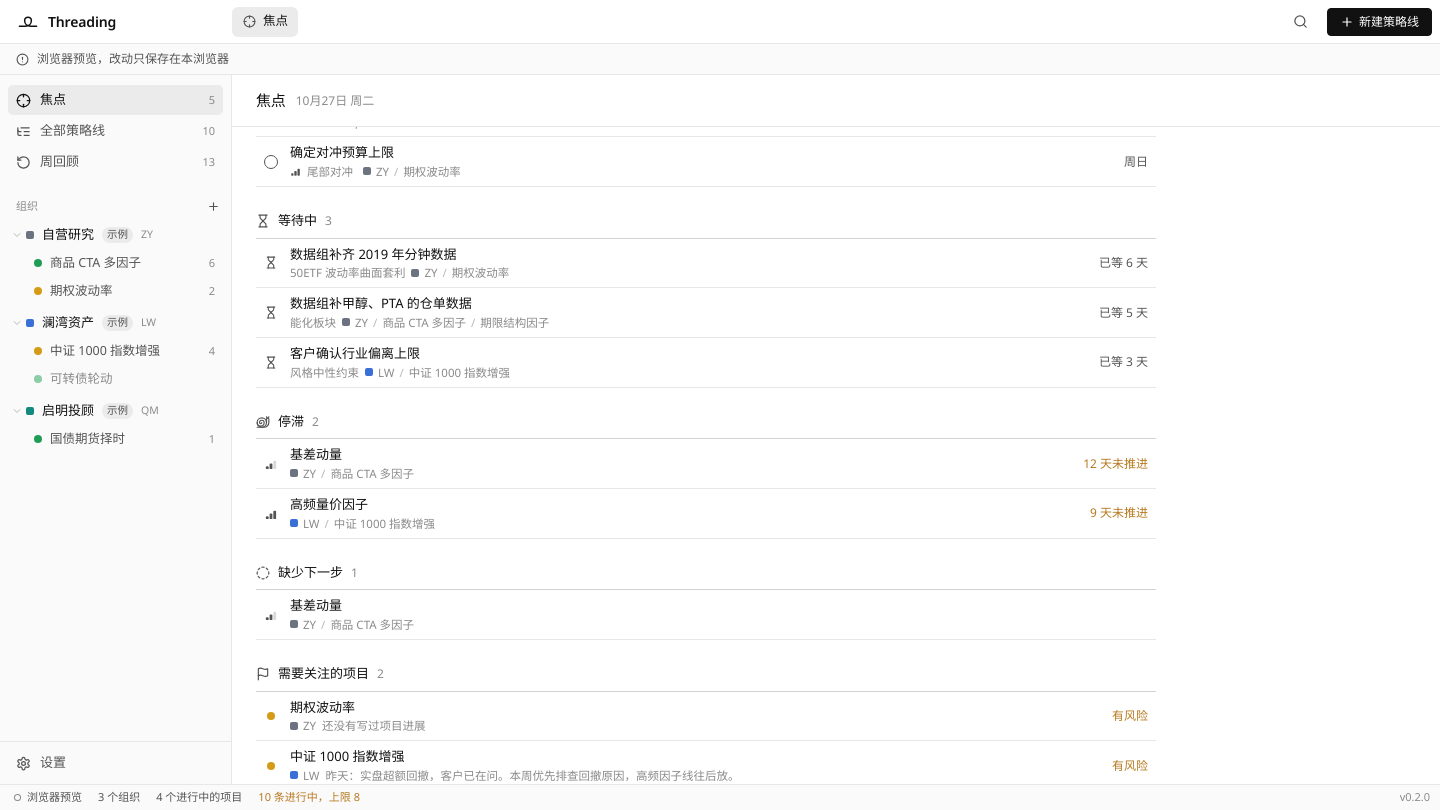
Threading › cancels an inline rename with Escape
The image size is (1440, 810).
(page scrolled)
Check: the heading "焦点" is shown, box [256,89,286,112]
Step 1. Click the text "基差动量" in the row of "12" → click(316, 455), box [290,445,342,465]
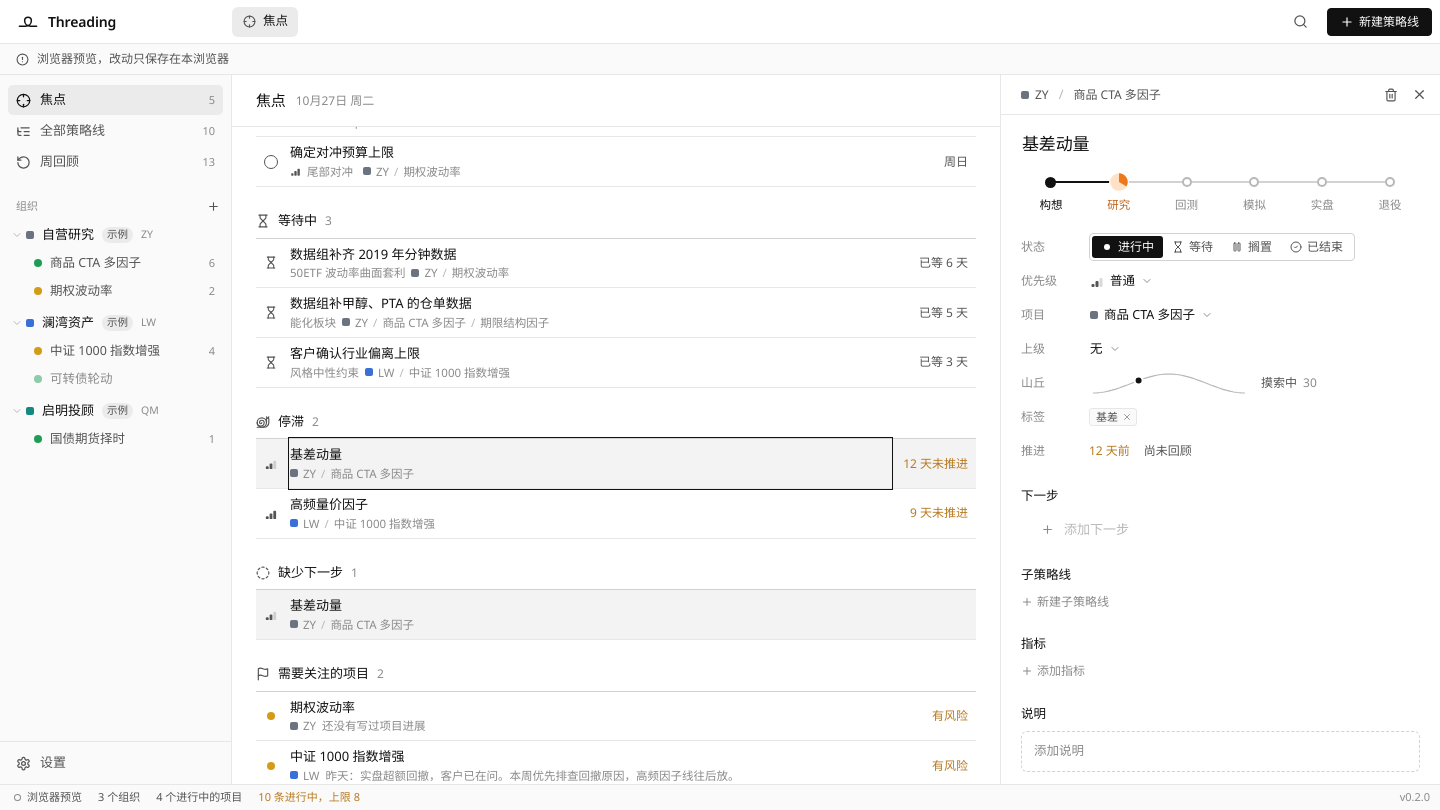
Step 2. Type "改个名" into the text box named "策略线名称" → (1220, 144), box [1015,129,1426,158]
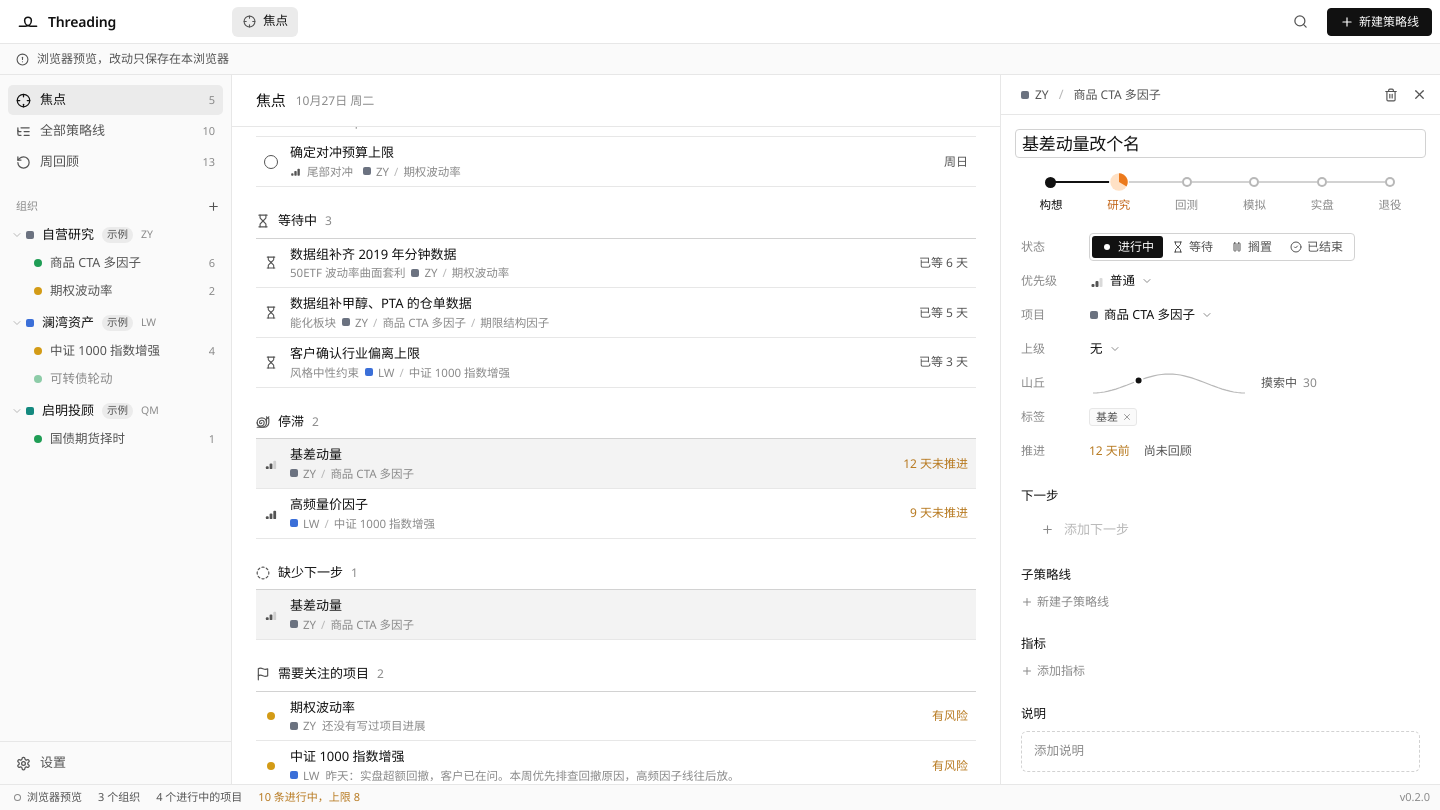
Step 3. Press Escape
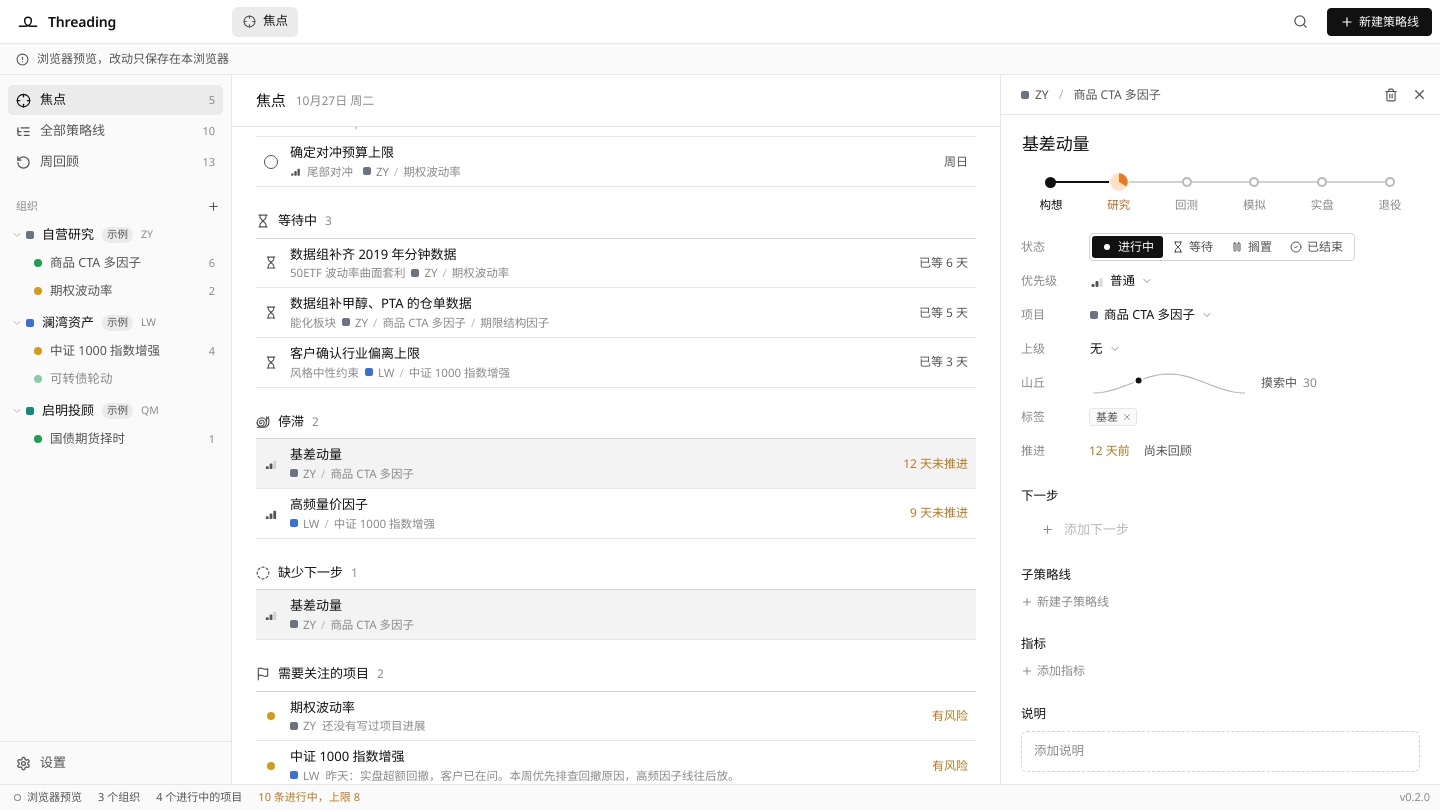
Check: the element named "策略线：基差动量" is shown, box [1000,75,1439,784]
Check: the text box named "策略线名称" holds "基差动量"
Step 4. Type "二期" into the text box named "策略线名称" → (1220, 144), box [1015,129,1426,158]
Then press Enter
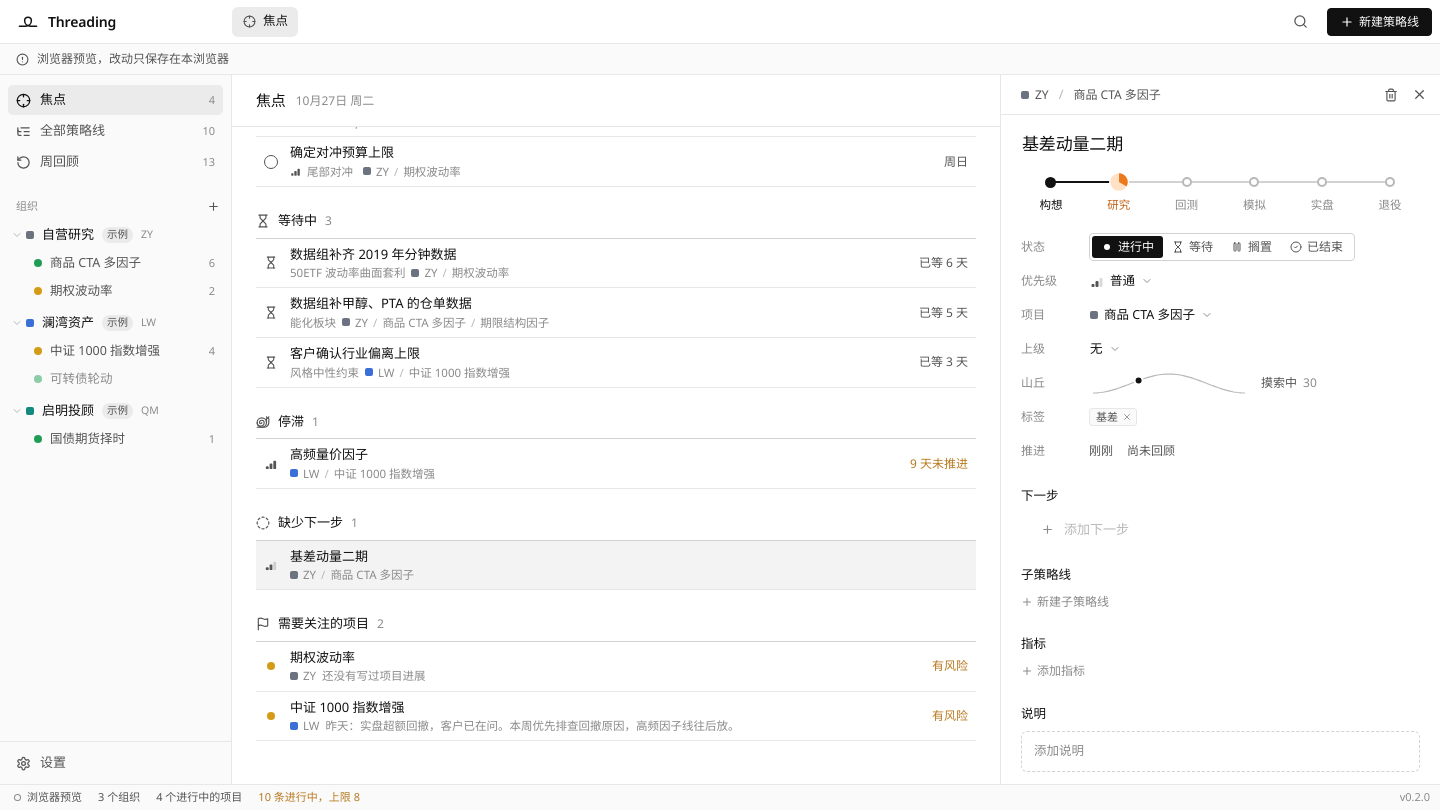
Check: the element named "策略线：基差动量二期" is shown, box [1000,75,1439,784]
